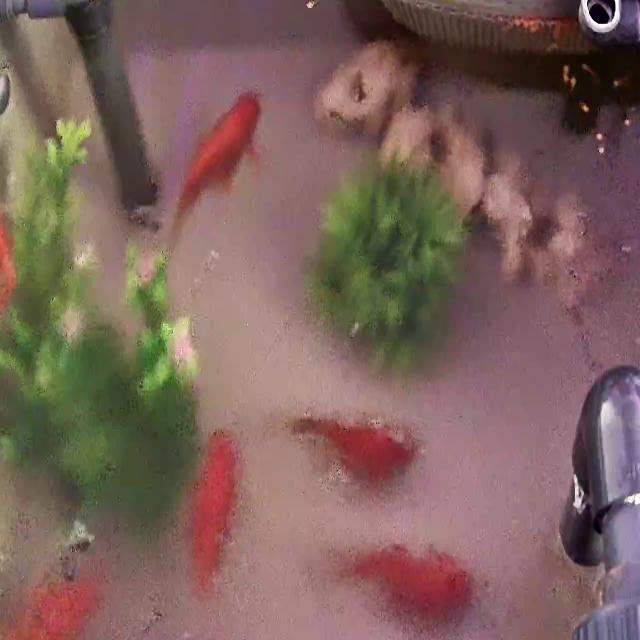fish: (165, 87, 264, 253), (339, 544, 463, 624), (187, 430, 240, 596), (294, 415, 404, 484), (0, 572, 105, 640), (0, 183, 19, 337)
